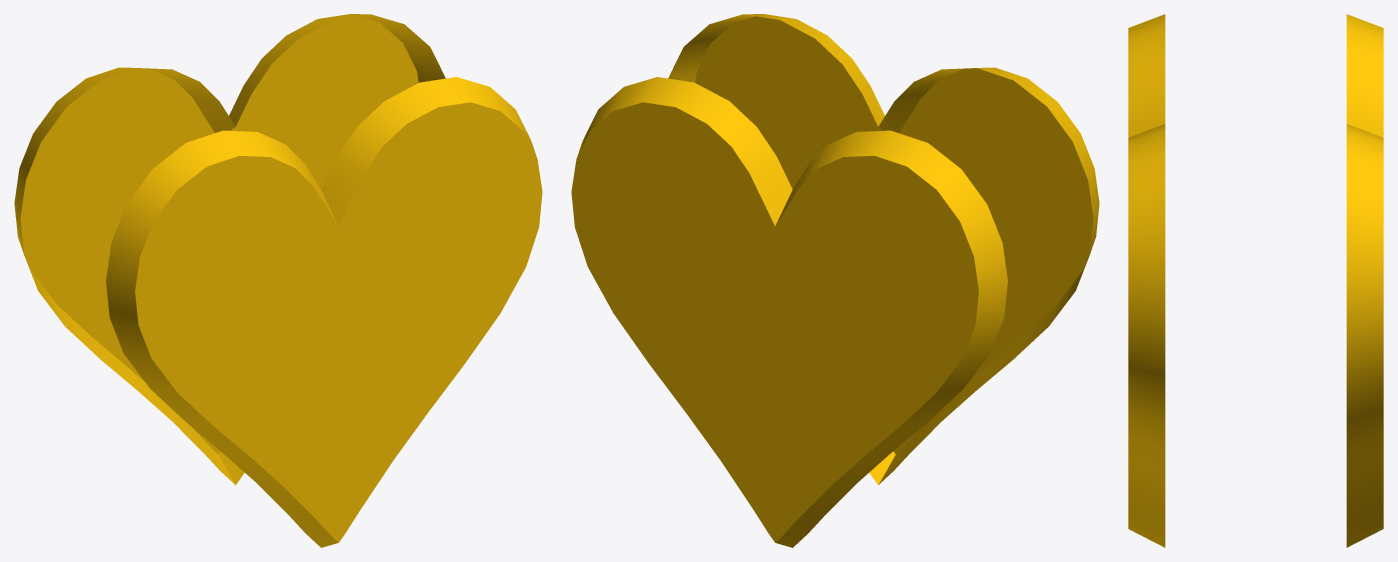
File: Hearts.fbx
3 renders of one model, left to right at view 1: azimuth 30°, elevation 25°; view 2: azimuth 150°, elevation 25°; view 3: azimuth 270°, elevation 25°, orthographic. The views are drawn at different scales.
Visible parts, largest first — view 1: Hearts; view 2: Hearts; view 3: Hearts.
Part boxes in pixels (x1=…): Hearts: x1=14, y1=14, x2=542, y2=547; Hearts: x1=571, y1=14, x2=1099, y2=547; Hearts: x1=1128, y1=14, x2=1383, y2=547.
Size of the model in its own units: 94.07 by 92.15 by 45.64.
